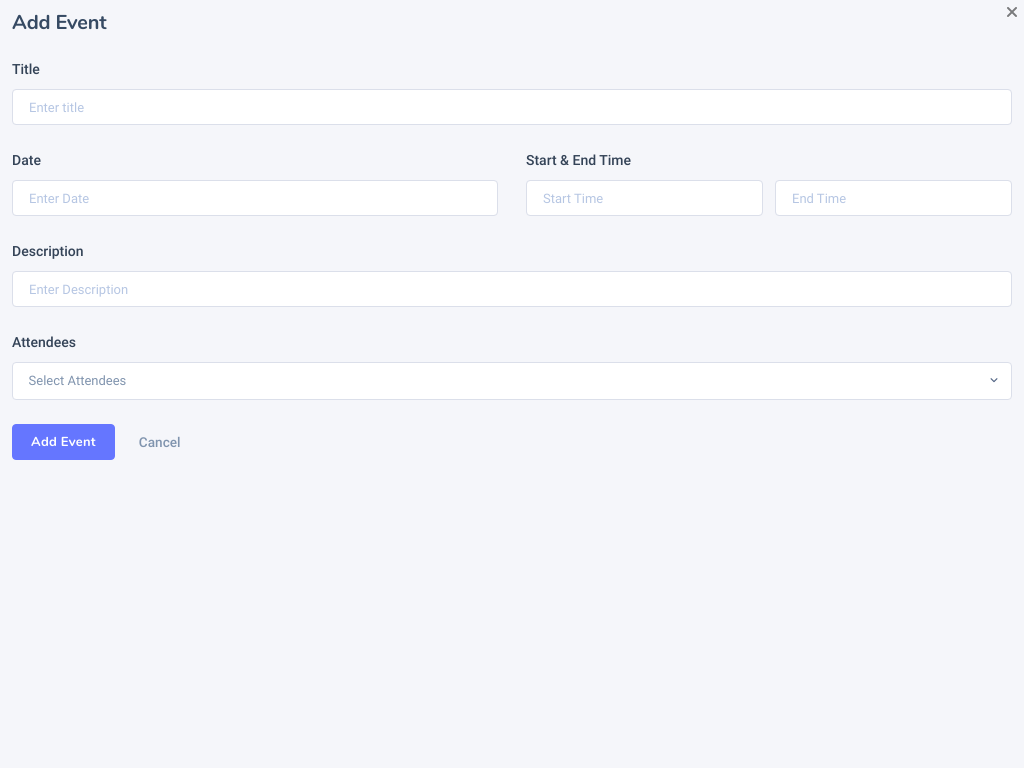
Test case: AddEvent › it test the error message except title
The width and height of the screenshot is (1024, 768).
Type "Interview SLot" into the field with test id "Title".
click(512, 107); type("Interview SLot")  # box [12,89,1012,125]
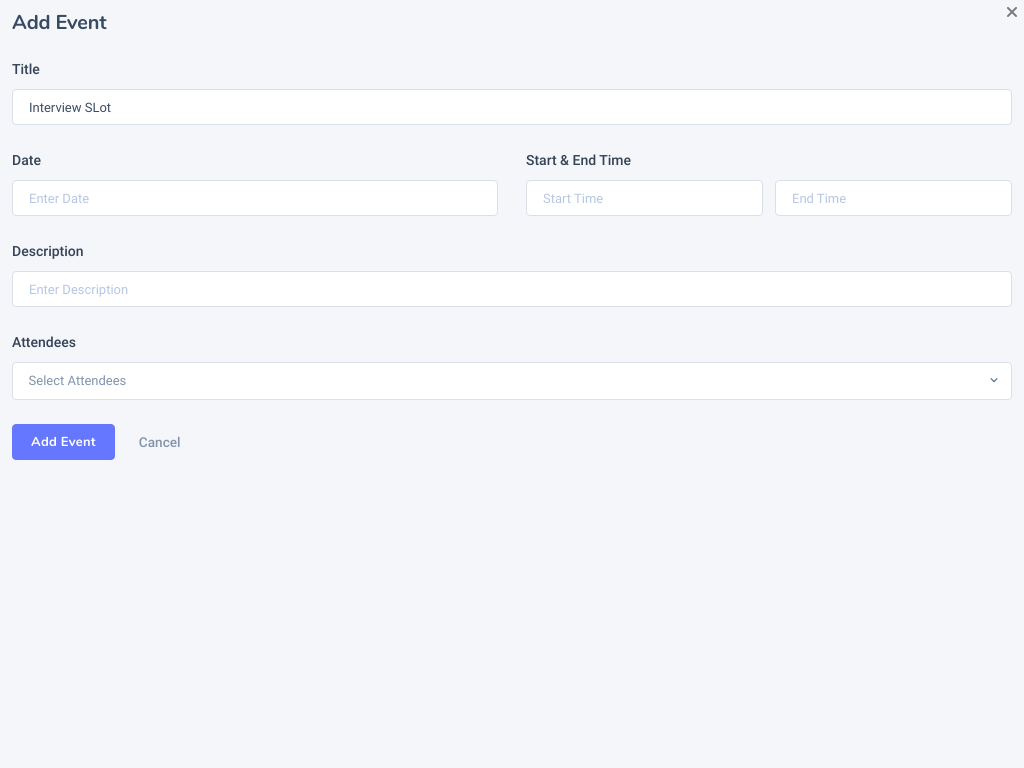
Click the button with test id "submitButton".
click(63, 442)  # box [12,424,115,460]
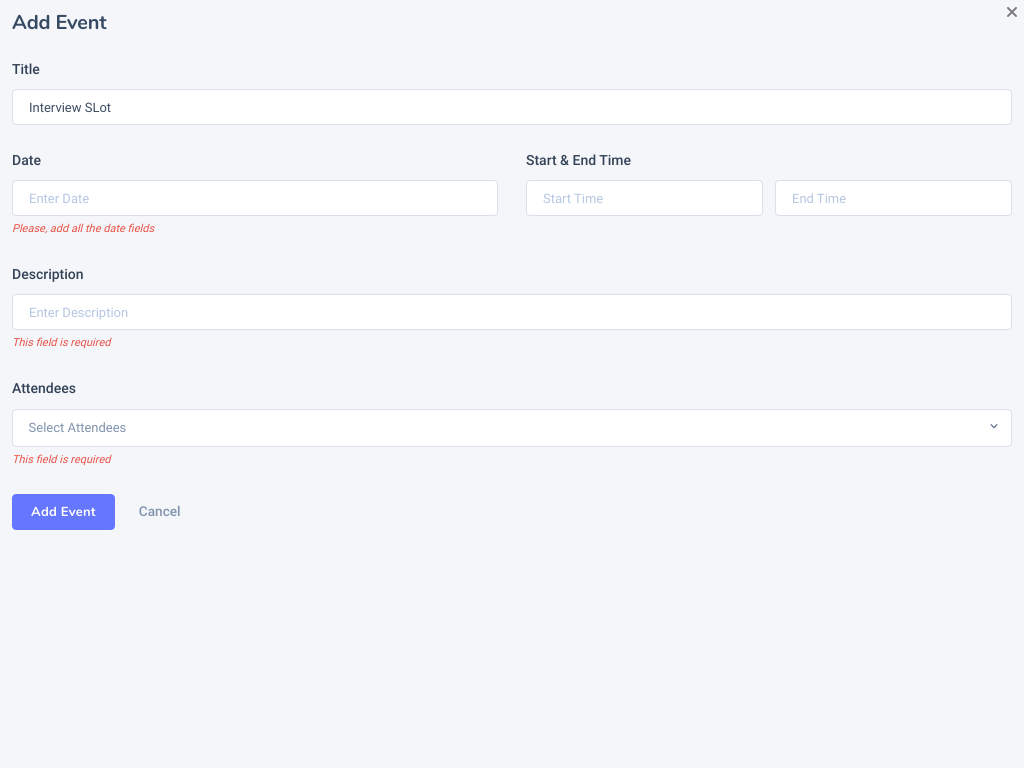
Now the text "This field is required" is shown 2 times, box [12,336,110,349]; [12,453,110,466]
